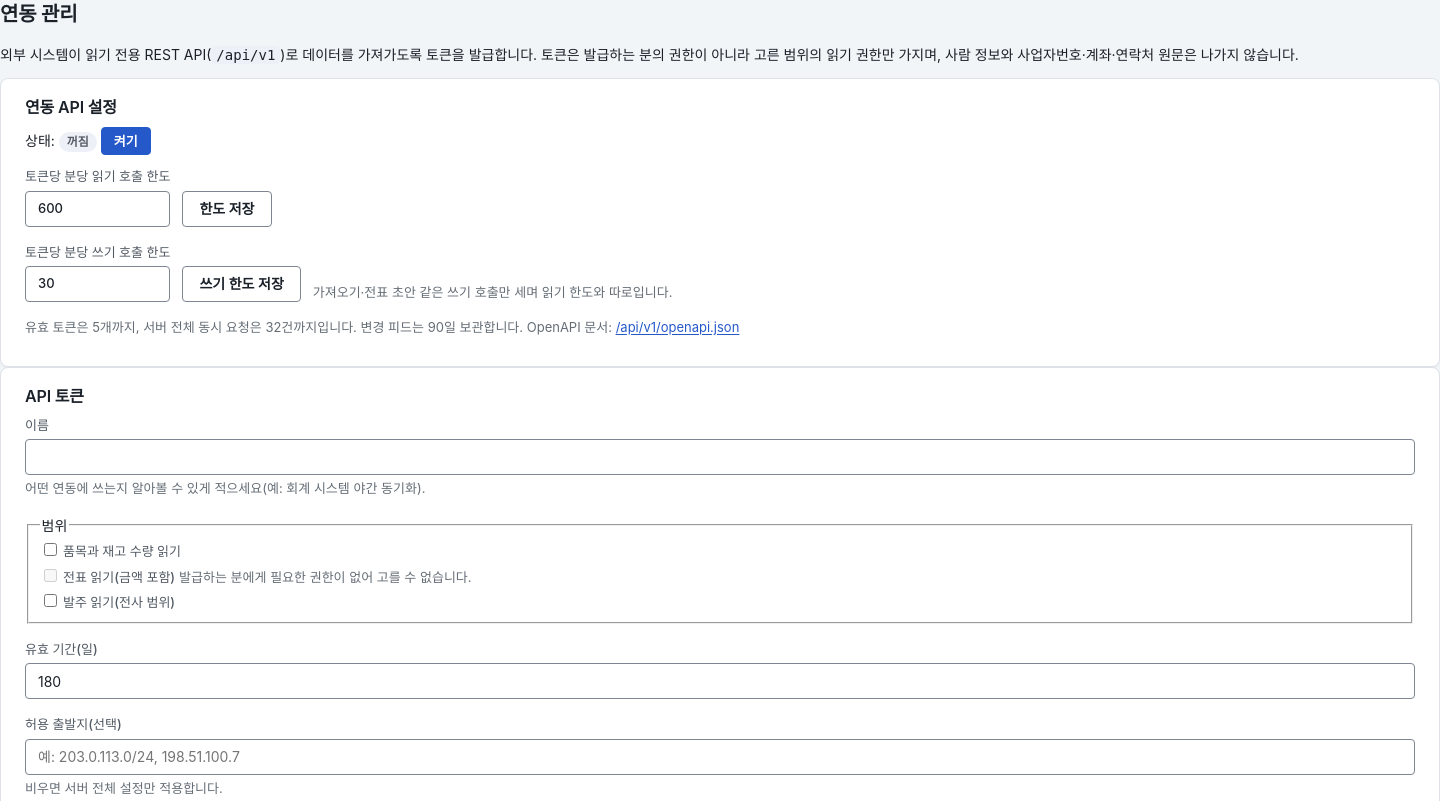
연동 관리 화면 › 권한이 없는 범위는 고를 수 없고, 범위를 고르면 발급되며 원문을 한 번만 보여 준다
expect the checkbox labelled "전표 읽기(금액 포함)" is disabled: met, box [44,569,56,582]
Type "재고 연동" into the field labelled "이름" at [720, 457], box [25,439,1415,475]
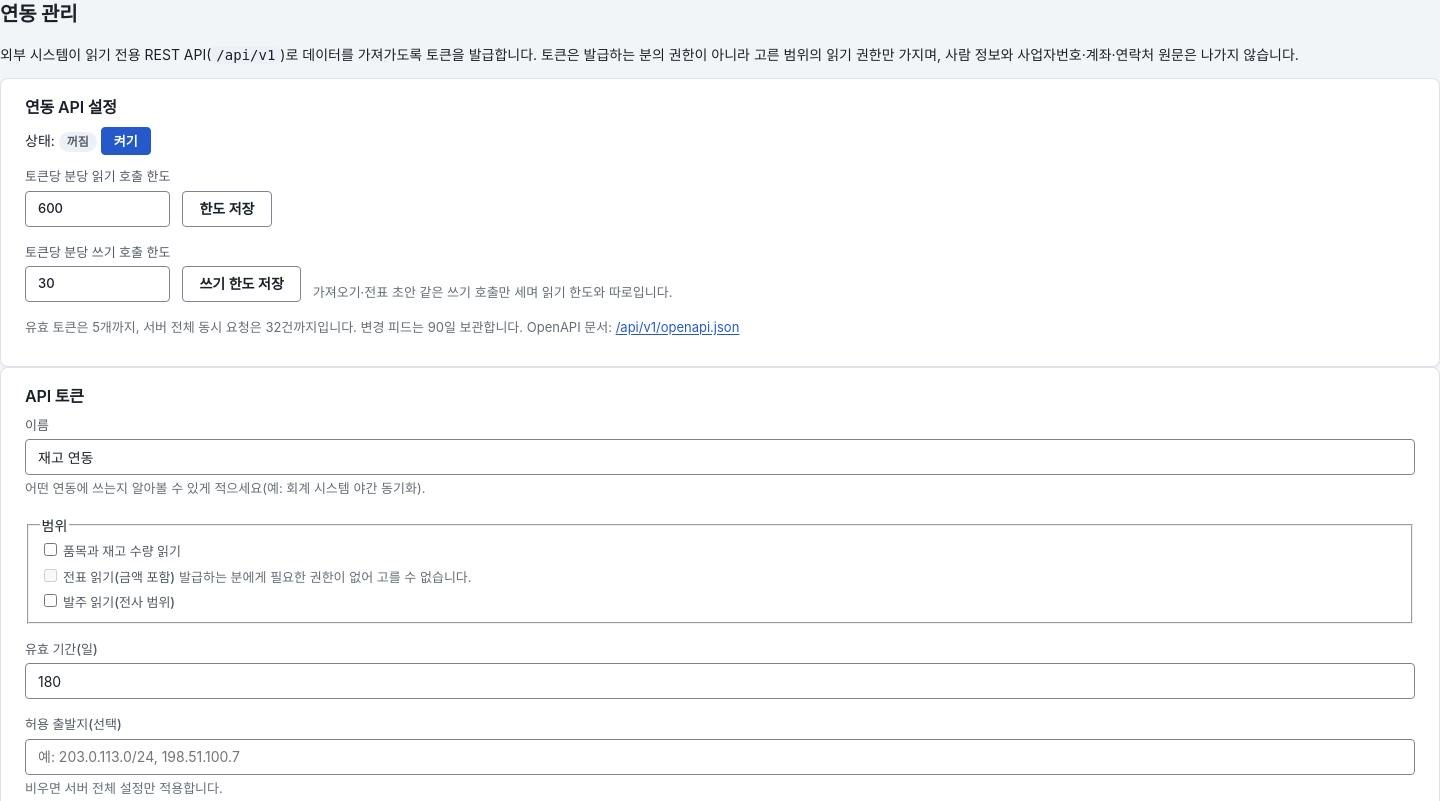
Click the checkbox labelled "발주 읽기(전사 범위)" at [50, 601], box [44,594,56,607]
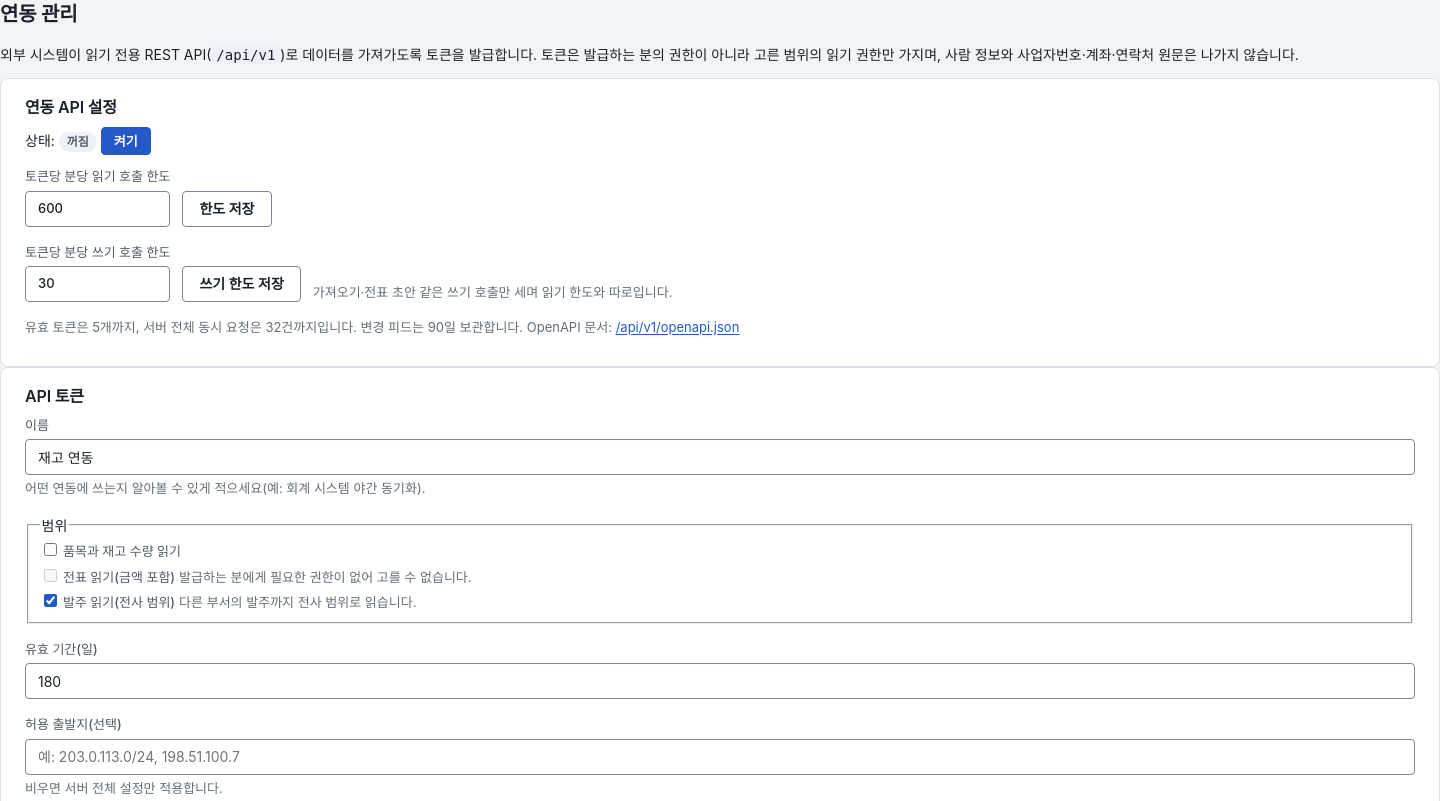
expect the text "다른 부서의 발주까지 전사 범위로 읽습니다." is shown: met, box [179,594,416,610]
Type "10.0.0.0/8" into the field labelled "허용 출발지(선택)" at [720, 757], box [25,739,1415,775]
(page scrolled)
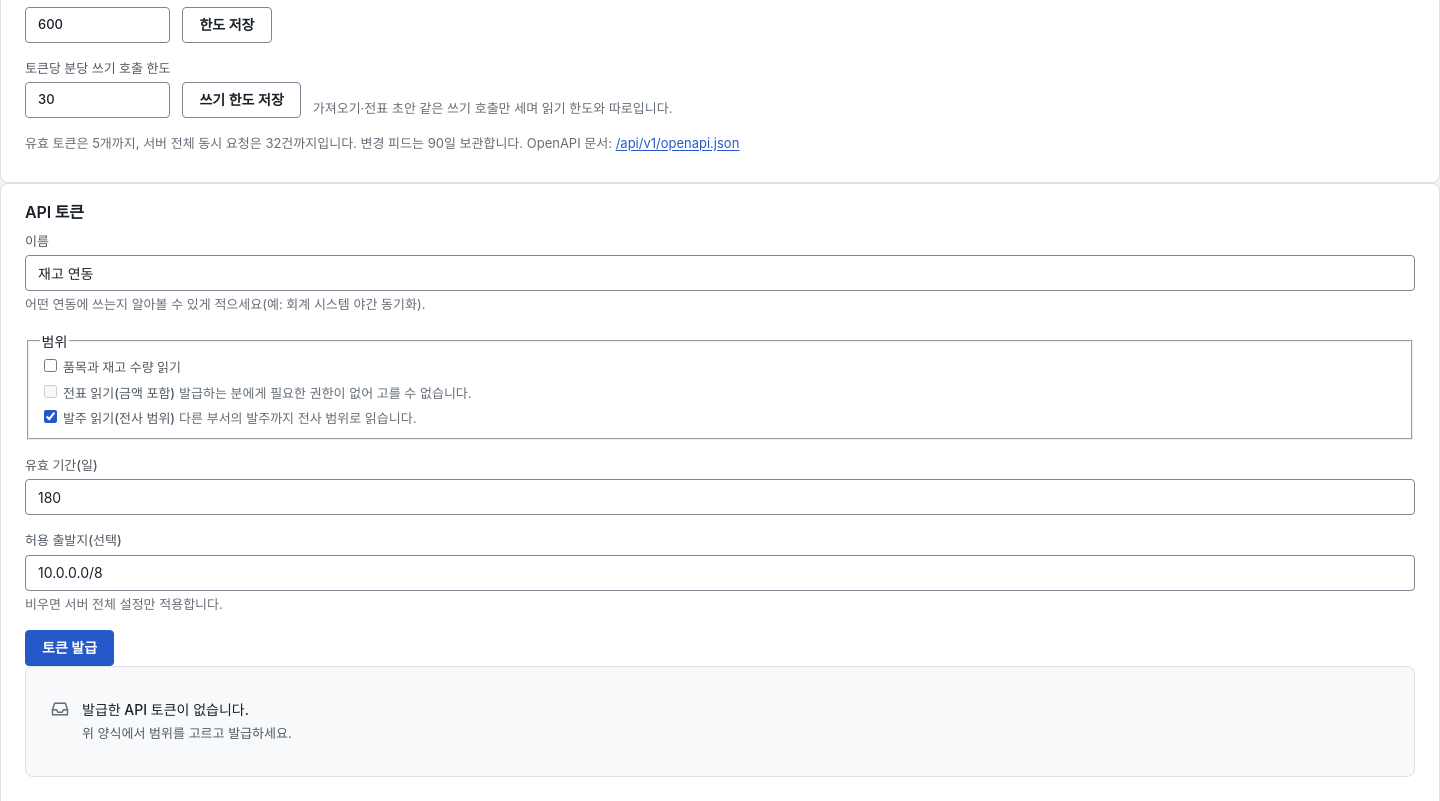
Click the button "토큰 발급" at [70, 648], box [25,630,114,666]
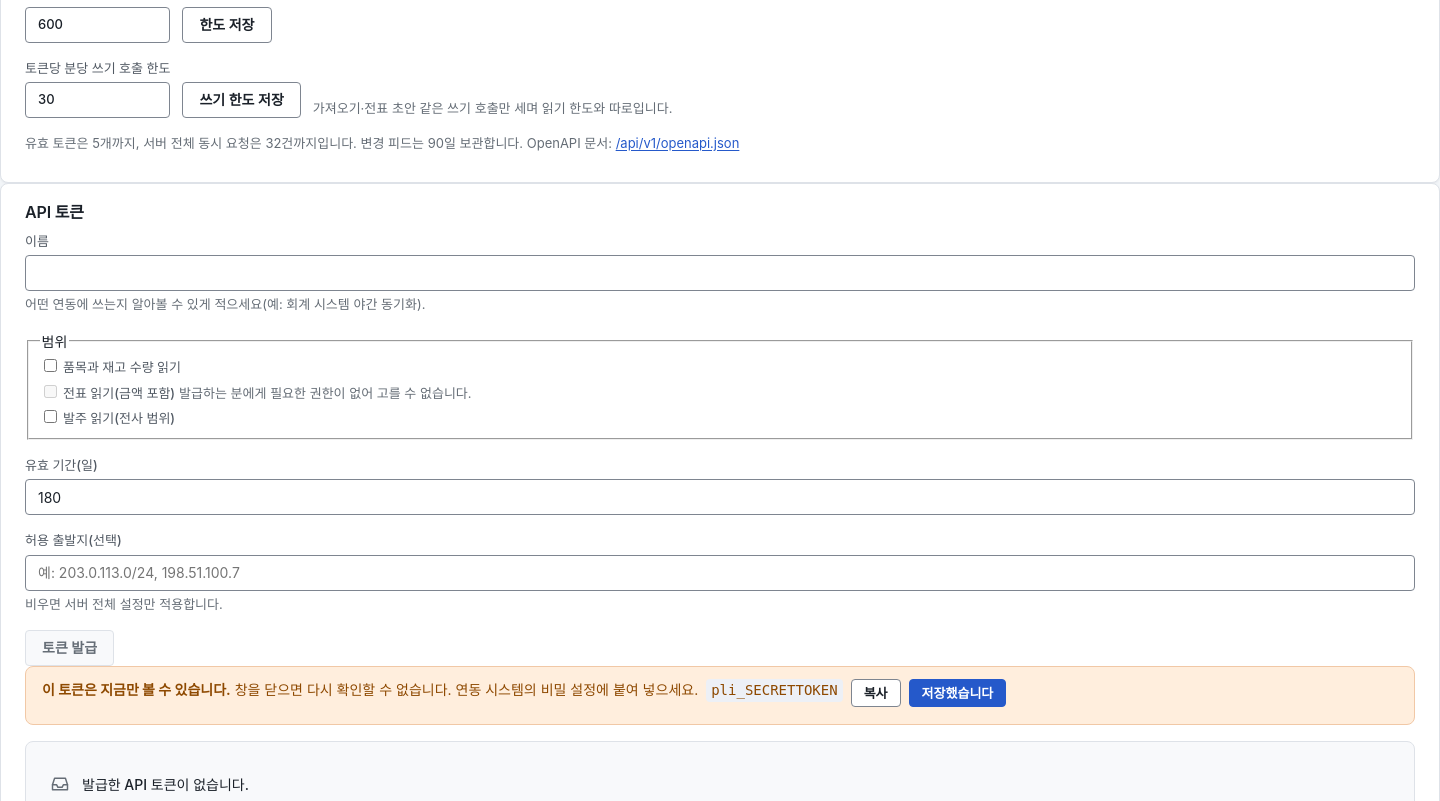
expect the text with test id "api-fresh-token" reads "pli_SECRETTOKEN": met, box [711,682,838,698]
Click the button "저장했습니다" at [957, 693], box [908,679,1006,707]
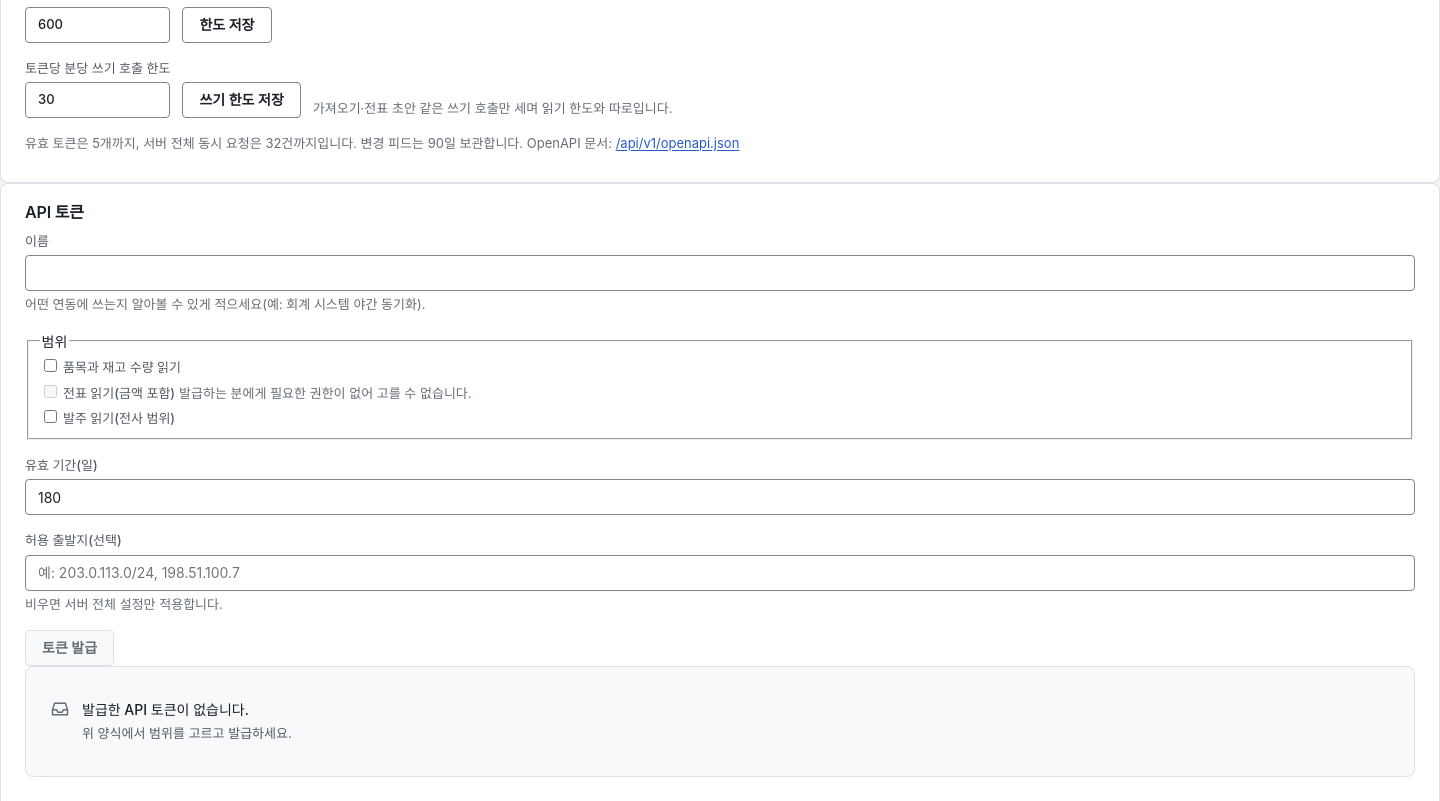
expect the text with test id "api-fresh-token" is gone: met
expect the text "pli_SECRETTOKEN" is gone: met
